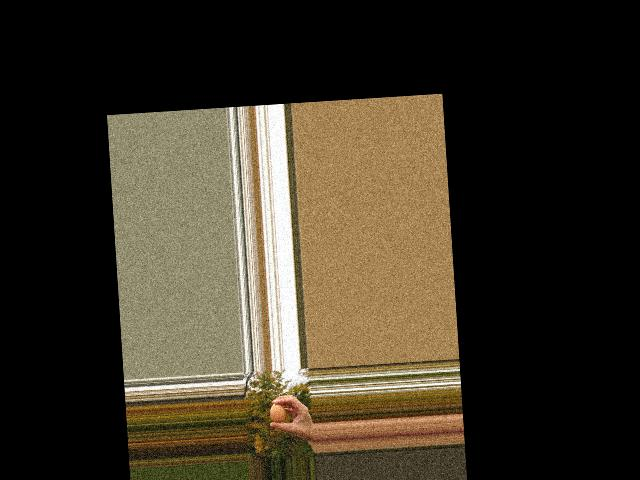egg: (269, 402, 285, 423)
